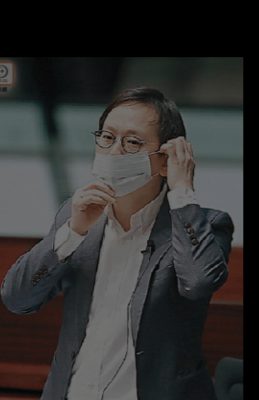with_mask: (94, 127, 160, 197)
